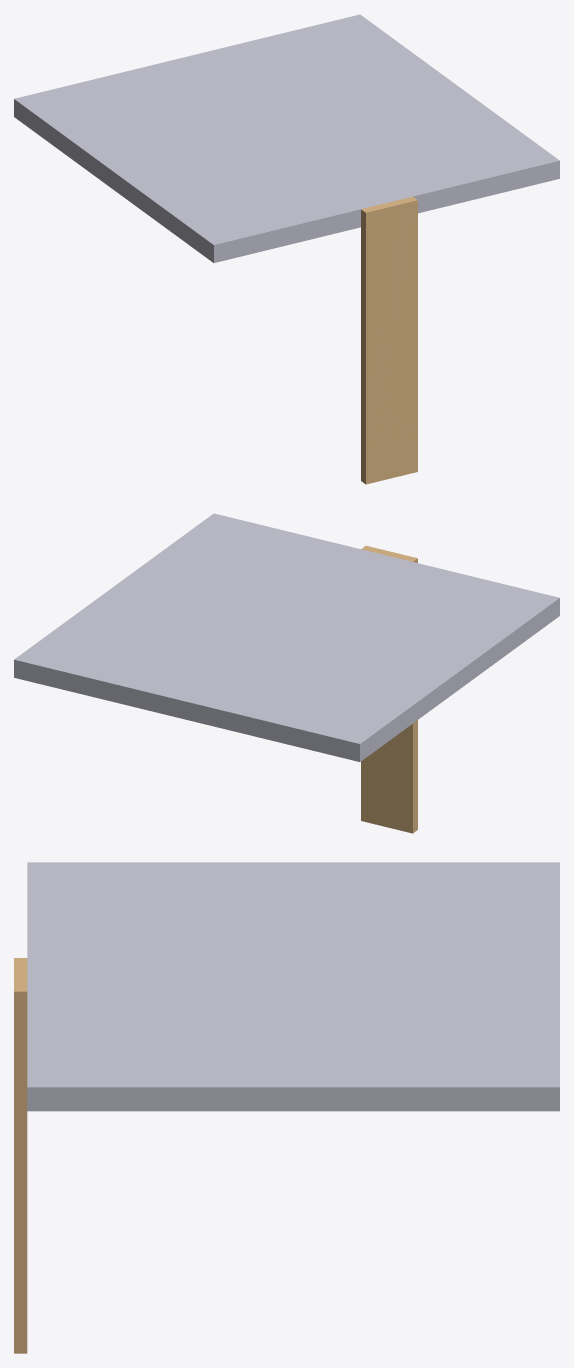
The model's file is ladder-test.glb.
The picture shows the model from 3 angles, top to bottom: view 1: azimuth 30°, elevation 25°; view 2: azimuth 150°, elevation 25°; view 3: azimuth 270°, elevation 25°; orthographic projection. The views are drawn at different scales.
Parts seen in each view (by area): view 1: Platform, Ladder; view 2: Platform, Ladder; view 3: Platform, Ladder.
Boxes of the visible parts, <box> form: Platform: <box>14,14,559,262</box>; Ladder: <box>361,196,417,484</box>; Platform: <box>14,513,559,761</box>; Ladder: <box>361,545,417,833</box>; Platform: <box>27,862,559,1111</box>; Ladder: <box>14,958,27,1353</box>.
Size of what is drawn, in the model's own units: 4 by 3 by 4.1.
